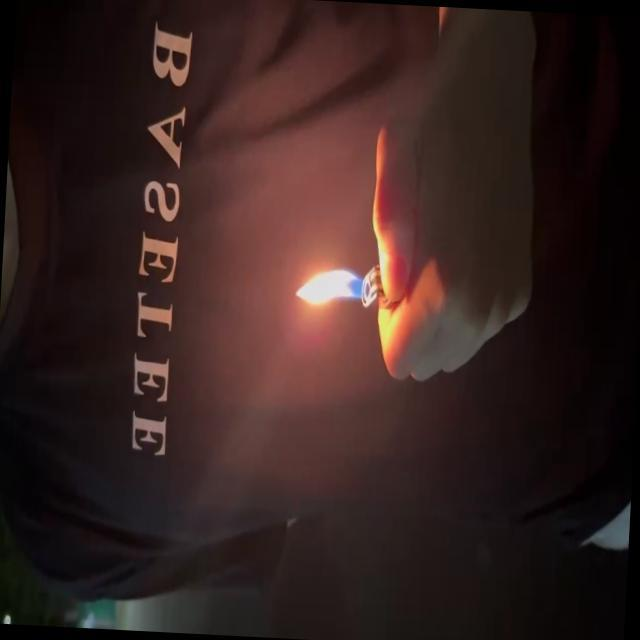Fire: (294, 263, 372, 316)
